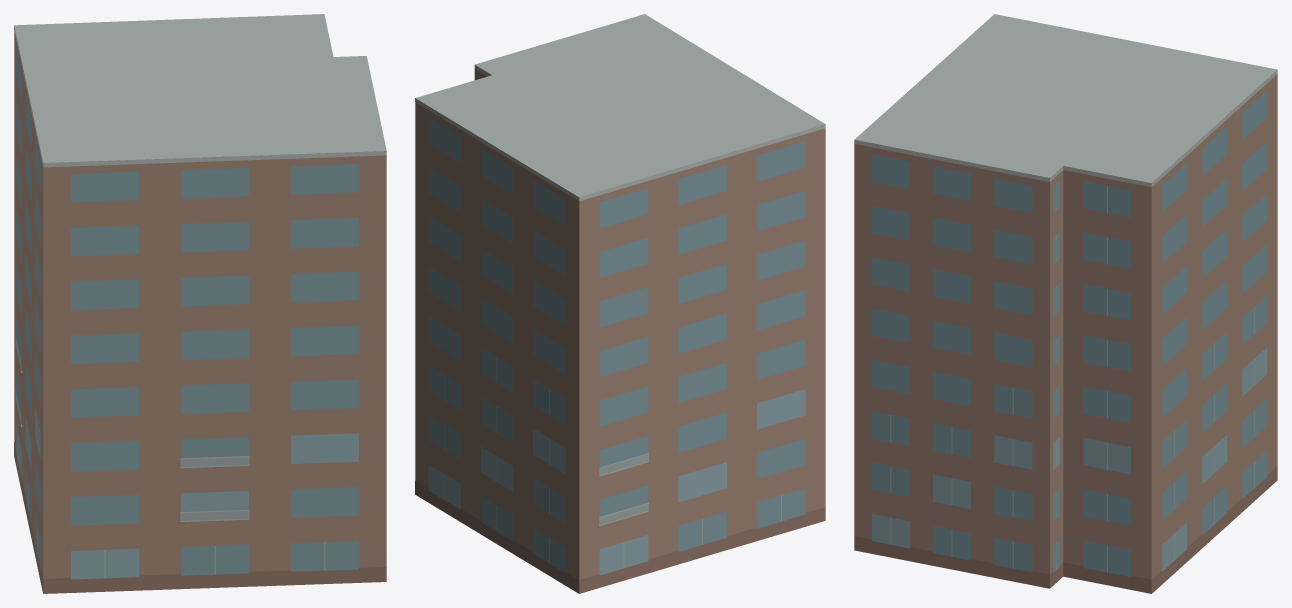
Rendered from survey-upis-32552247.glb.
3 renders of one model, left to right at view 1: azimuth 30°, elevation 25°; view 2: azimuth 150°, elevation 25°; view 3: azimuth 270°, elevation 25°, orthographic. The views are drawn at different scales.
Visible parts, largest first — view 1: survey-upis-32552247.tmp; view 2: survey-upis-32552247.tmp; view 3: survey-upis-32552247.tmp.
Boxes of the visible parts, x1,y1,x2,y2 form: survey-upis-32552247.tmp: [14, 14, 386, 593]; survey-upis-32552247.tmp: [415, 14, 825, 593]; survey-upis-32552247.tmp: [854, 14, 1277, 593].
Bounding box in the file's own units: 21.21 × 24 × 22.43.
